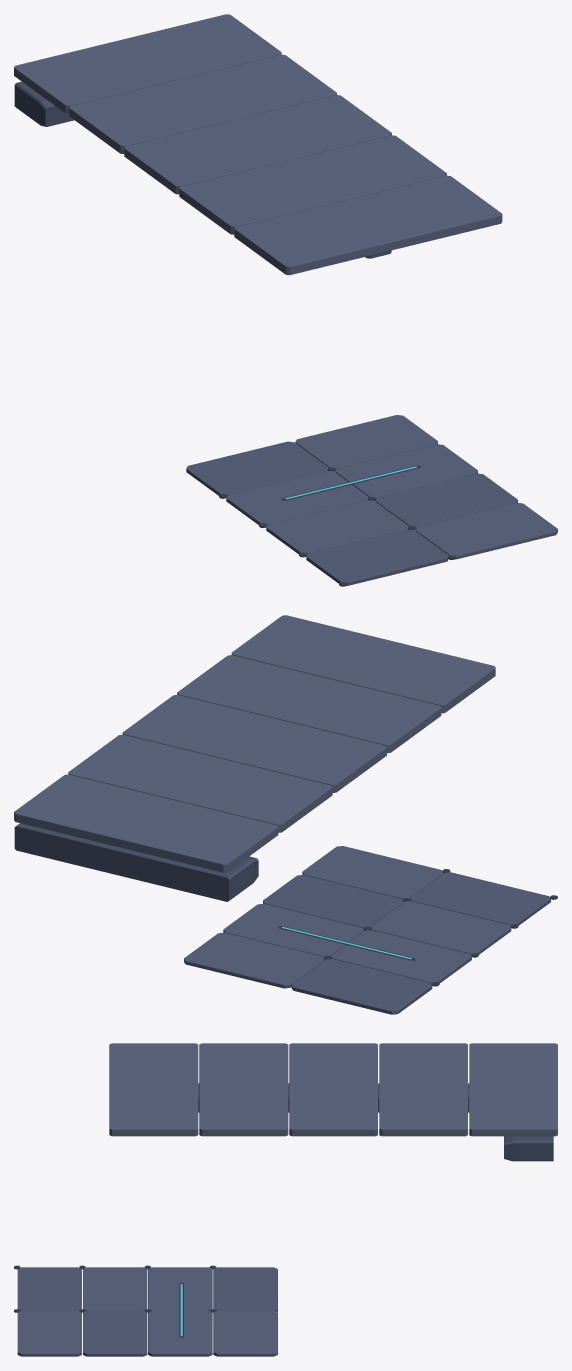
File: operations_bay.glb
3 views of the same model, one above another, from view 1: azimuth 30°, elevation 25°; view 2: azimuth 150°, elevation 25°; view 3: azimuth 270°, elevation 25° (orthographic). The views are drawn at different scales.
Visible parts, largest first — view 1: Chassis; view 2: Chassis; view 3: Chassis.
Boxes of the visible parts, bbox=[...] form: Chassis: bbox=[14, 14, 557, 586]; Chassis: bbox=[14, 615, 557, 1014]; Chassis: bbox=[14, 1043, 557, 1356].
Bounding box in the file's own units: 4.56 × 5.49 × 11.92.
